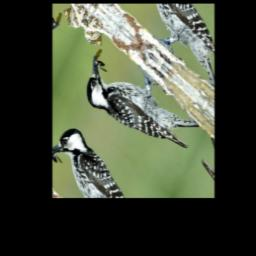Woodpecker: (76, 37, 201, 182)
